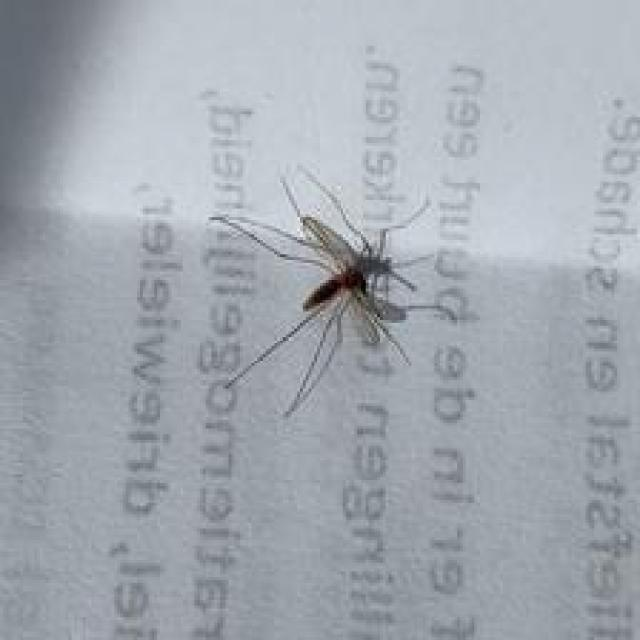Culex: (207, 164, 456, 419)
